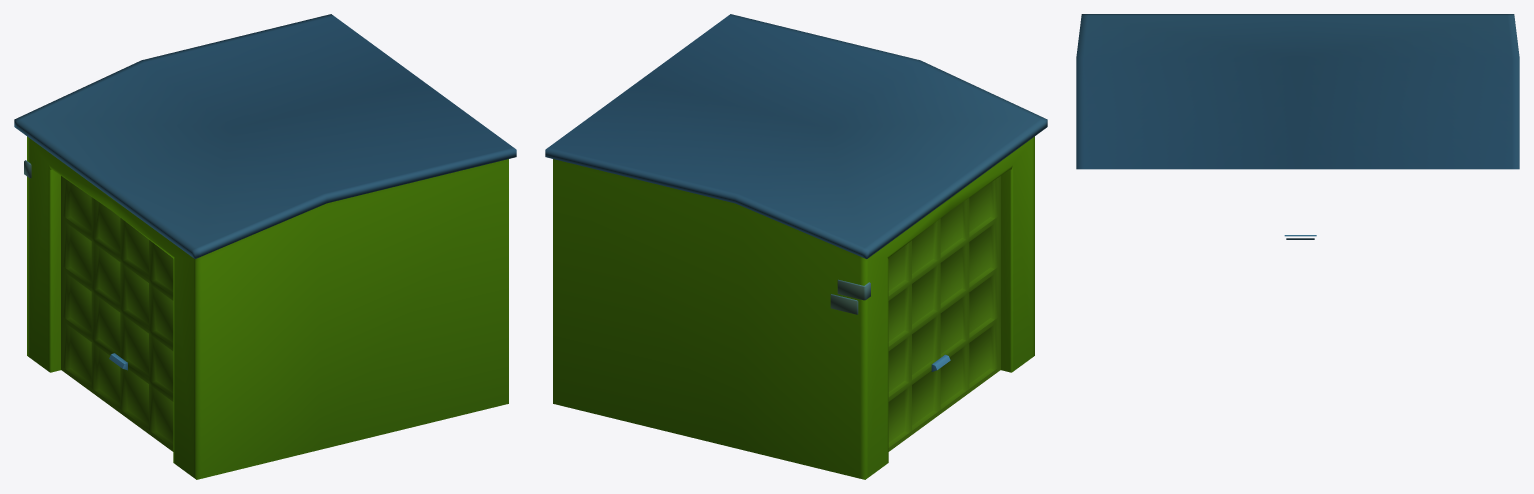
The model's file is Garage02Night.glb.
3 renders of one model, left to right at view 1: azimuth 30°, elevation 25°; view 2: azimuth 150°, elevation 25°; view 3: azimuth 270°, elevation 25°, orthographic. The views are drawn at different scales.
Parts seen in each view (by area): view 1: Garage02Night; view 2: Garage02Night; view 3: Garage02Night.
Part boxes in pixels (left/top/right/bottom): Garage02Night: left=14, top=14, right=516, bottom=479; Garage02Night: left=545, top=14, right=1047, bottom=479; Garage02Night: left=1076, top=14, right=1519, bottom=239.
Size of the model in its own units: 7.65 by 5.94 by 7.69.
2 materials, 1 textured.
